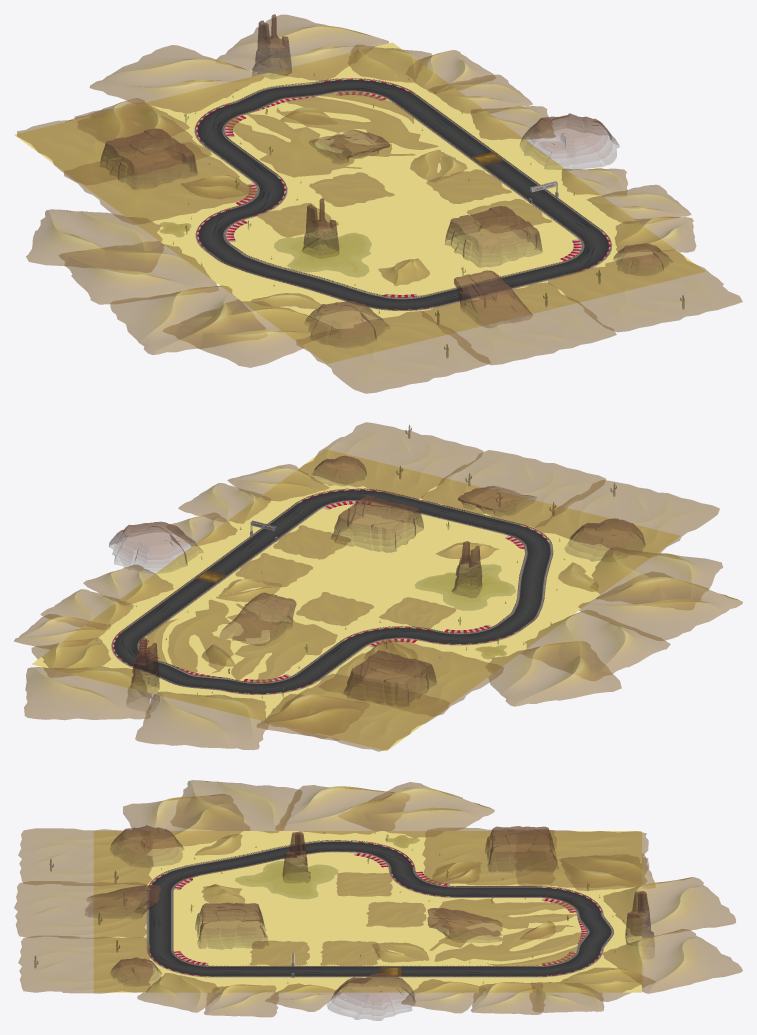
The model's file is race_track.glb.
3 views of the same model, one above another, from view 1: azimuth 30°, elevation 25°; view 2: azimuth 150°, elevation 25°; view 3: azimuth 270°, elevation 25° (orthographic). The views are drawn at different scales.
Visible parts, largest first — view 1: Object_3, Object_14, Object_15, Object_17, Object_13, Object_16, Object_12, Object_18; view 2: Object_3, Object_14, Object_15, Object_17, Object_13, Object_16, Object_12, Object_18; view 3: Object_3, Object_14, Object_15, Object_17, Object_13, Object_16, Object_12, Object_18.
Boxes of the visible parts, x1,y1,x2,y2 form: Object_3: [14, 42, 704, 363]; Object_14: [59, 91, 691, 367]; Object_15: [26, 90, 684, 357]; Object_17: [159, 14, 696, 393]; Object_13: [17, 14, 742, 332]; Object_16: [89, 45, 552, 285]; Object_12: [194, 79, 612, 310]; Object_18: [302, 198, 339, 257]; Object_3: [31, 449, 679, 750]; Object_14: [83, 450, 722, 683]; Object_15: [109, 425, 742, 740]; Object_17: [24, 455, 719, 720]; Object_13: [128, 422, 598, 751]; Object_16: [14, 521, 517, 749]; Object_12: [111, 489, 553, 694]; Object_18: [451, 541, 482, 597]; Object_3: [94, 831, 641, 992]; Object_14: [14, 785, 582, 1020]; Object_15: [34, 780, 654, 982]; Object_17: [18, 828, 742, 1014]; Object_13: [18, 830, 653, 993]; Object_16: [190, 826, 735, 1012]; Object_12: [146, 841, 613, 977]; Object_18: [282, 831, 310, 882].
Size of the model in its own units: 1334 by 164 by 1698.
6 materials, 5 textured.
